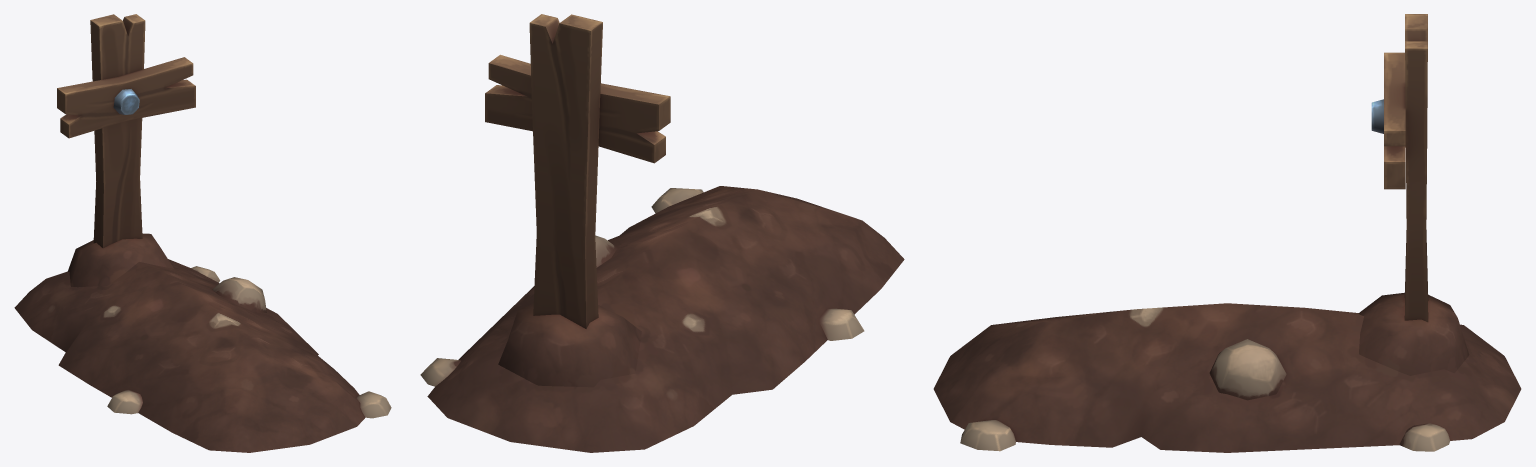
File: grave_soil.fbx
The picture shows the model from 3 angles, left to right: view 1: azimuth 30°, elevation 25°; view 2: azimuth 150°, elevation 25°; view 3: azimuth 270°, elevation 25°; orthographic projection. The views are drawn at different scales.
Parts seen in each view (by area): view 1: grave_soil; view 2: grave_soil; view 3: grave_soil.
Part boxes in pixels (left/top/right/bottom): grave_soil: left=14, top=14, right=391, bottom=452; grave_soil: left=420, top=14, right=904, bottom=452; grave_soil: left=933, top=14, right=1521, bottom=452.
Size of the model in its own units: 123 by 155 by 228.
